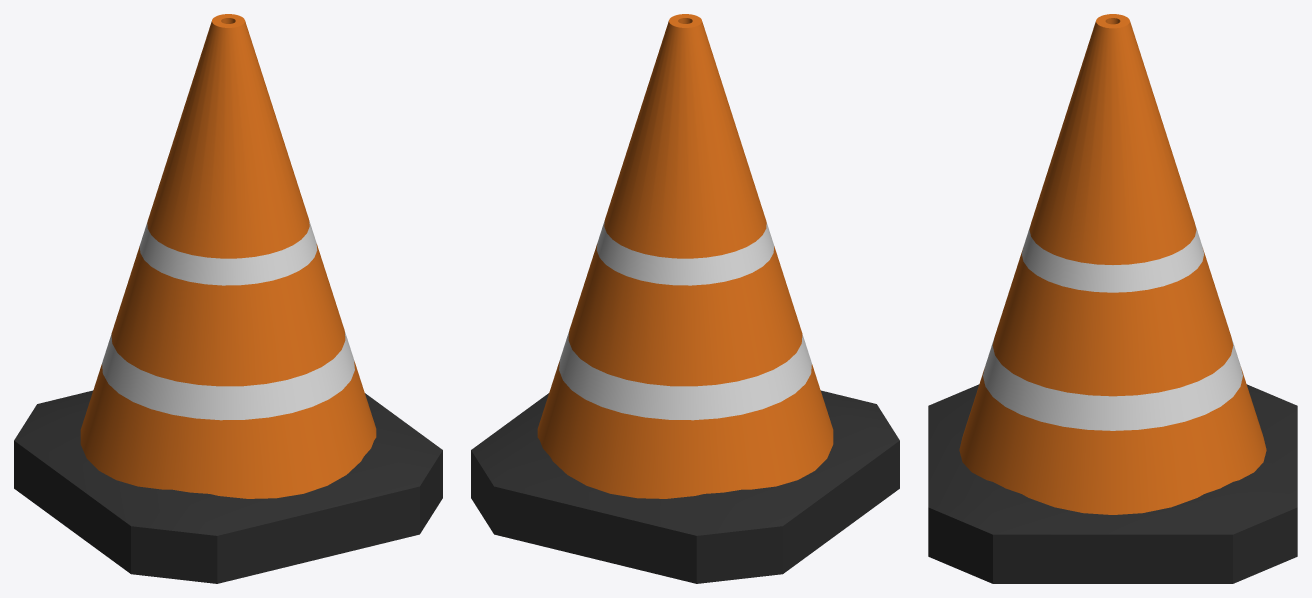
The model's file is UusinCone.fbx.
The picture shows the model from 3 angles, left to right: view 1: azimuth 30°, elevation 25°; view 2: azimuth 150°, elevation 25°; view 3: azimuth 270°, elevation 25°; orthographic projection. The views are drawn at different scales.
Visible parts, largest first — view 1: Cylinder, Cube.001, Cylinder.002, Cylinder.001; view 2: Cylinder, Cube.001, Cylinder.002, Cylinder.001; view 3: Cylinder, Cube.001, Cylinder.002, Cylinder.001.
Boxes of the visible parts, bbox=[...] form: Cylinder: bbox=[80, 14, 376, 498]; Cube.001: bbox=[14, 390, 442, 583]; Cylinder.002: bbox=[102, 331, 354, 420]; Cylinder.001: bbox=[139, 221, 317, 285]; Cylinder: bbox=[537, 14, 833, 498]; Cube.001: bbox=[471, 390, 899, 583]; Cylinder.002: bbox=[559, 331, 811, 420]; Cylinder.001: bbox=[596, 221, 774, 285]; Cylinder: bbox=[959, 14, 1266, 514]; Cube.001: bbox=[928, 384, 1297, 583]; Cylinder.002: bbox=[983, 337, 1242, 430]; Cylinder.001: bbox=[1022, 225, 1203, 292].
Bounding box in the file's own units: 49.52 × 73.63 × 49.52.
